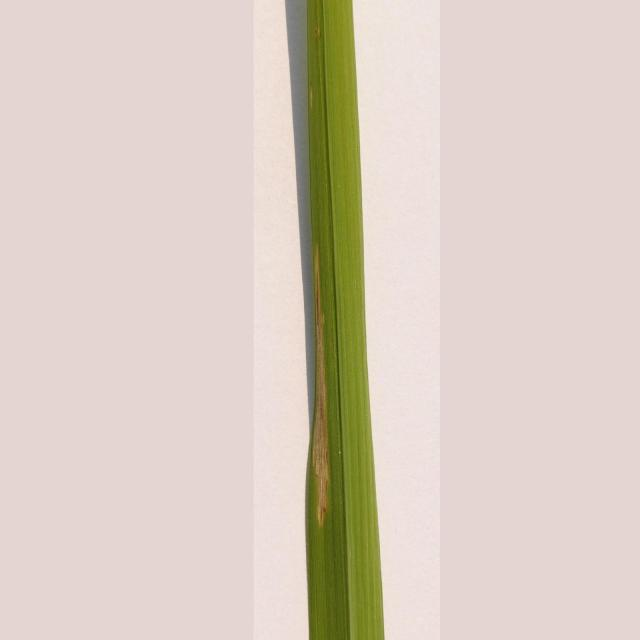leaf blight: (305, 245, 340, 530)
